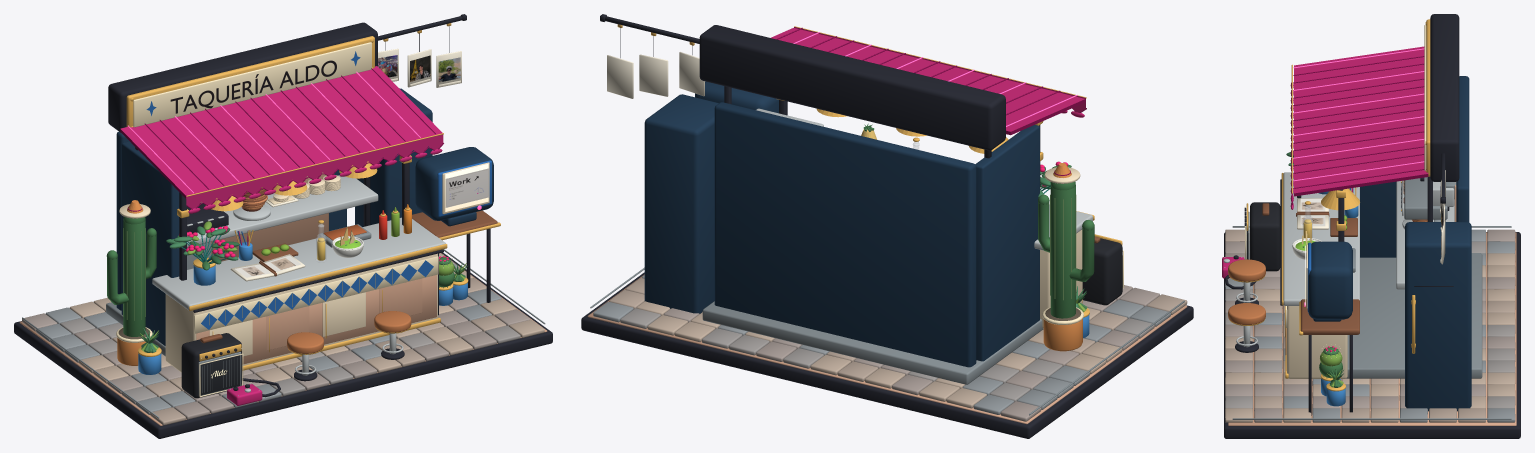
Rendered from taqueria_aldo_v3_12_9_selectively_merged.glb.
The picture shows the model from 3 angles, left to right: view 1: azimuth 30°, elevation 25°; view 2: azimuth 150°, elevation 25°; view 3: azimuth 270°, elevation 25°; orthographic projection. The views are drawn at different scales.
Visible parts, largest first — view 1: AWNING, PAVERS, COUNTER, PLATFORM_dark_extruded_border, SIGN, KIOSK, COUNTER_stainless_worktop, SIGN_center_cream_illuminated, LEFT_CACTUS, KITCHEN, TILES_cream_band, CRT_HOUSING_MERGED_MAT_08 (+19 smaller); view 2: KIOSK, PAVERS, SIGN, FRIDGE, PLATFORM_dark_extruded_border, AWNING, LEFT_CACTUS, KIOSK_floor, HIT_MUSIC_AMP, PLATFORM_sand_mortar, CRT_HOUSING_MERGED_MAT_08, HIT_PHOTOS_POLAROID_1 (+4 smaller); view 3: PAVERS, AWNING, FRIDGE, KIOSK_floor, SIGN, PLATFORM_dark_extruded_border, KIOSK, CRT_HOUSING_MERGED_MAT_08, COUNTER_stainless_worktop, COUNTER, PLATFORM_sand_mortar, KITCHEN (+10 smaller).
Boxes of the visible parts, x1,y1,x2,y2 form: AWNING: (120, 66, 443, 213); PAVERS: (22, 249, 545, 425); COUNTER: (165, 244, 447, 372); PLATFORM_dark_extruded_border: (14, 252, 552, 438); SIGN: (108, 22, 377, 226); KIOSK: (116, 131, 346, 345); COUNTER_stainless_worktop: (152, 217, 445, 310); SIGN_center_cream_illuminated: (133, 42, 371, 127); LEFT_CACTUS: (106, 200, 156, 365); KITCHEN: (187, 175, 378, 269); TILES_cream_band: (194, 256, 438, 333); CRT_HOUSING_MERGED_MAT_08: (415, 147, 493, 226); KIOSK: (714, 102, 1039, 367); PAVERS: (590, 267, 1187, 421); SIGN: (699, 25, 1005, 158); FRIDGE: (644, 94, 718, 313); PLATFORM_dark_extruded_border: (581, 272, 1193, 438); AWNING: (771, 27, 1086, 135); LEFT_CACTUS: (1038, 163, 1094, 351); KIOSK_floor: (702, 301, 1043, 384); HIT_MUSIC_AMP: (1082, 238, 1122, 305); PLATFORM_sand_mortar: (587, 274, 1187, 424); CRT_HOUSING_MERGED_MAT_08: (695, 81, 778, 113); HIT_PHOTOS_POLAROID_1: (639, 54, 668, 96); PAVERS: (1225, 226, 1515, 422); AWNING: (1290, 46, 1428, 209); FRIDGE: (1405, 222, 1471, 411); KIOSK_floor: (1346, 253, 1482, 378); SIGN: (1425, 14, 1459, 221); PLATFORM_dark_extruded_border: (1224, 232, 1520, 438); KIOSK: (1360, 76, 1469, 257); CRT_HOUSING_MERGED_MAT_08: (1308, 241, 1352, 321); COUNTER_stainless_worktop: (1283, 172, 1359, 305); COUNTER: (1281, 173, 1347, 378); PLATFORM_sand_mortar: (1228, 232, 1516, 425); KITCHEN: (1396, 177, 1456, 289).
Bounding box in the file's own units: 6.75 × 3.99 × 4.12.
61 materials, 8 textured.
